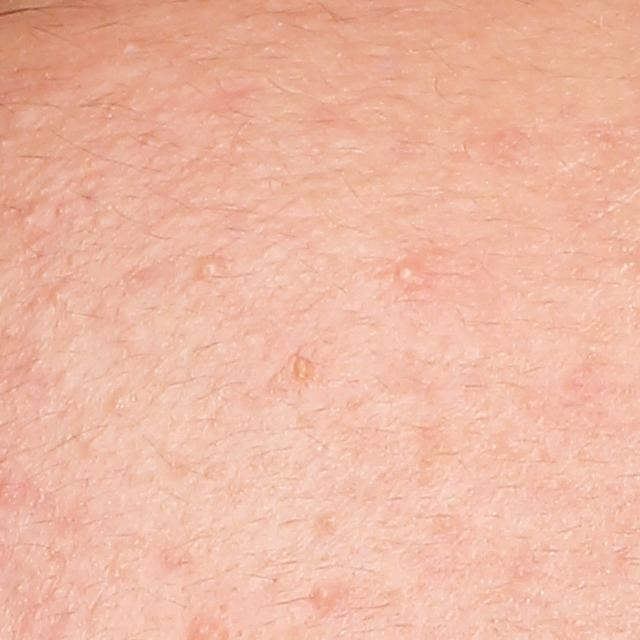comedo: (45, 281, 69, 309), (111, 389, 134, 415), (292, 353, 311, 383), (92, 210, 115, 231), (19, 211, 40, 232), (196, 259, 218, 277), (121, 41, 138, 56)
